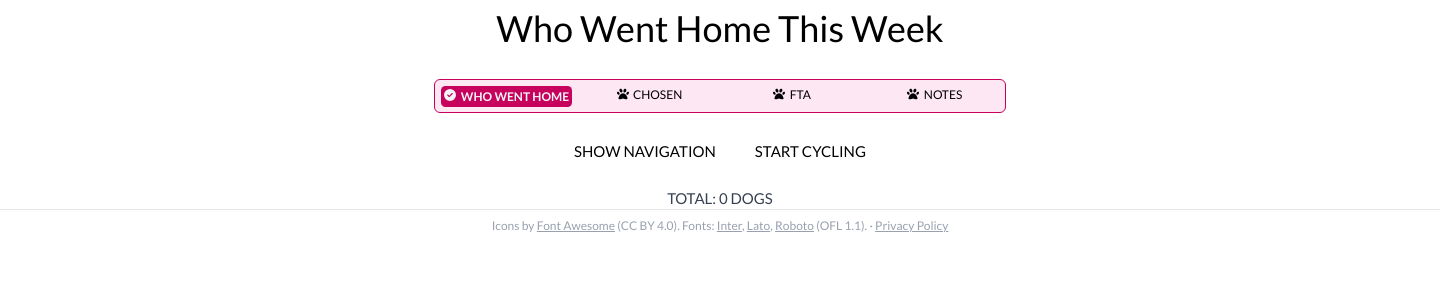
Test: DashboardsApp notes › shows every note, including several for one dog, without edit controls
Click the text "Notes" at x=943, y=95, box top-left (924, 86), bottom-right (962, 104)
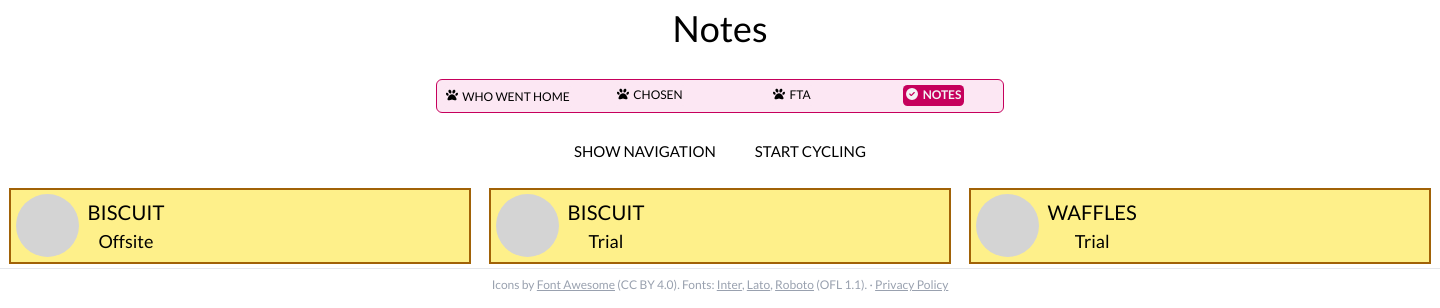
Expected: the text "Biscuit" is shown 2 times, top-left (88, 197), bottom-right (164, 228); top-left (568, 197), bottom-right (644, 228)
Expected: the text "Waffles" is shown, top-left (1048, 197), bottom-right (1137, 228)
Expected: the text "Offsite" is shown, top-left (98, 230), bottom-right (154, 252)
